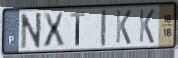I: (100, 8, 107, 49)
K: (138, 8, 156, 45), (115, 9, 133, 46)
N: (19, 11, 43, 51)
T: (69, 11, 86, 47)
X: (42, 11, 66, 49)
